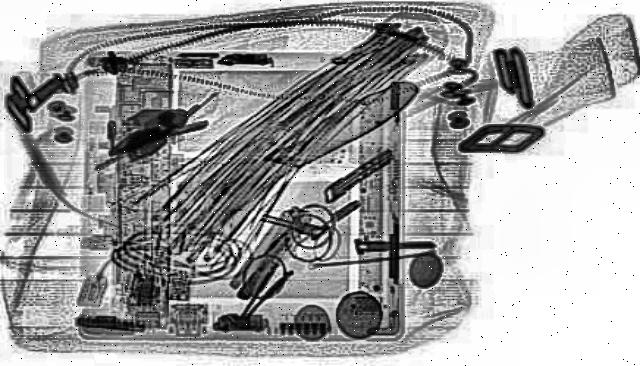Knife: (140, 76, 434, 250)
